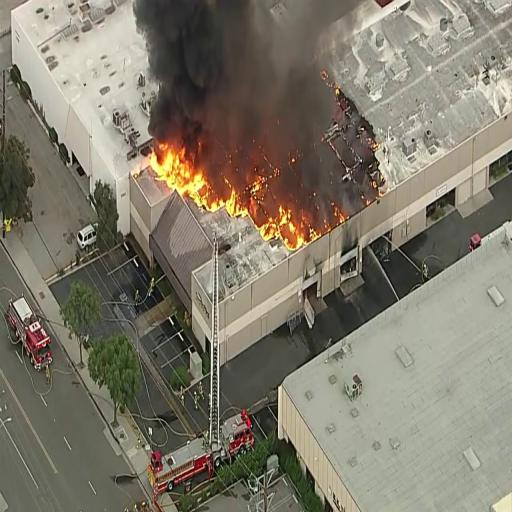fire: (144, 140, 204, 201), (209, 188, 247, 224)
smoke: (140, 4, 325, 124)
